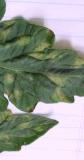Tomato mold leaf: (0, 12, 84, 112), (0, 107, 60, 155)
